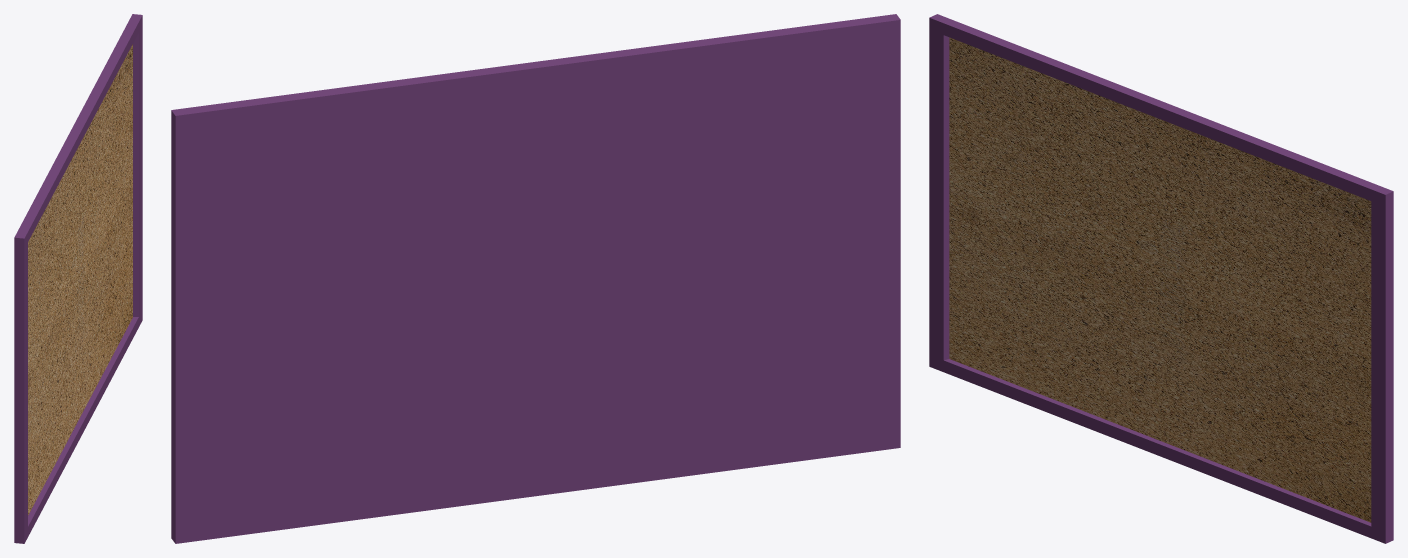
The model's file is Quadro de avisos.fbx.
3 renders of one model, left to right at view 1: azimuth 30°, elevation 25°; view 2: azimuth 150°, elevation 25°; view 3: azimuth 270°, elevation 25°, orthographic. The views are drawn at different scales.
Visible parts, largest first — view 1: Cube; view 2: Cube; view 3: Cube.
Part boxes in pixels (x1=…): Cube: x1=14, y1=14, x2=142, y2=543; Cube: x1=171, y1=14, x2=900, y2=543; Cube: x1=929, y1=14, x2=1393, y2=543.
Bounding box in the file's own units: 148 × 133 × 161.
